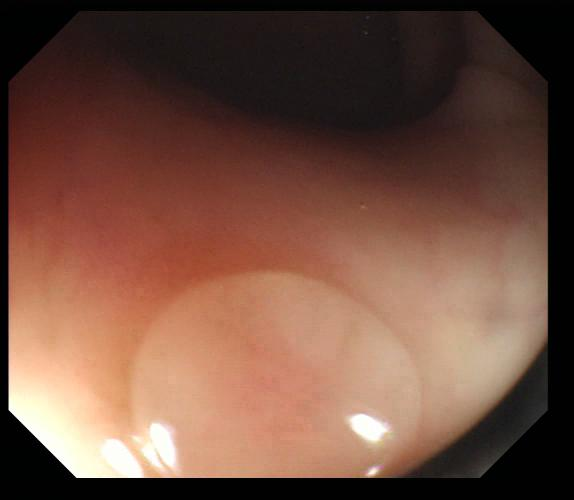polyp: (131, 269, 423, 474)
